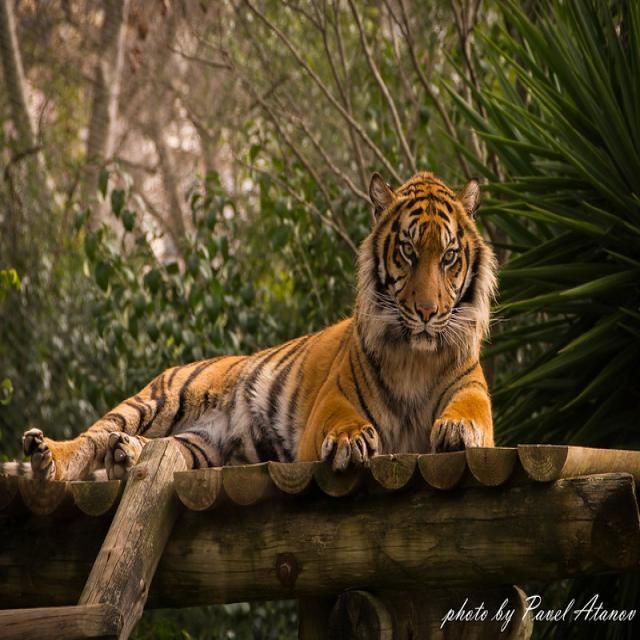Tiger: (19, 170, 494, 478)
